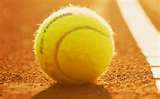tennis ball: (32, 5, 117, 84)
